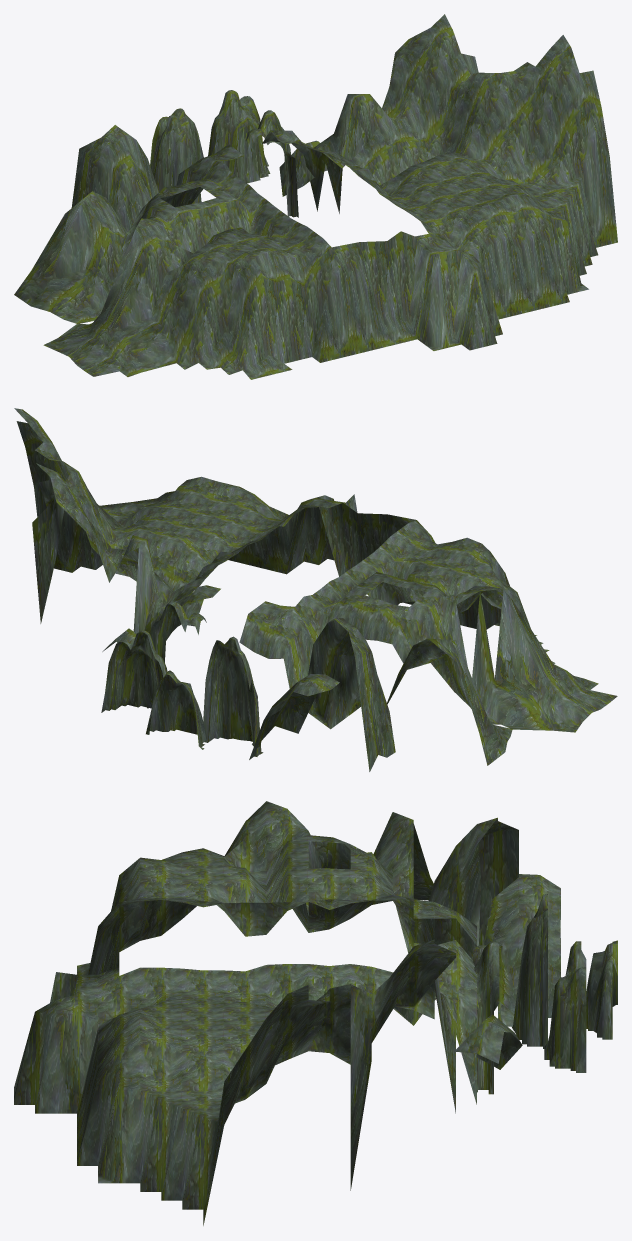
Rendered from shan.FBX.
3 views of the same model, one above another, from view 1: azimuth 30°, elevation 25°; view 2: azimuth 150°, elevation 25°; view 3: azimuth 270°, elevation 25° (orthographic). The views are drawn at different scales.
Parts seen in each view (by area): view 1: 对象002; view 2: 对象002; view 3: 对象002.
Part boxes in pixels (x1,y1,x2,y2): 对象002: (14, 14, 617, 379); 对象002: (14, 408, 617, 771); 对象002: (14, 801, 617, 1225).
Size of the model in its own units: 272 by 88.38 by 206.
